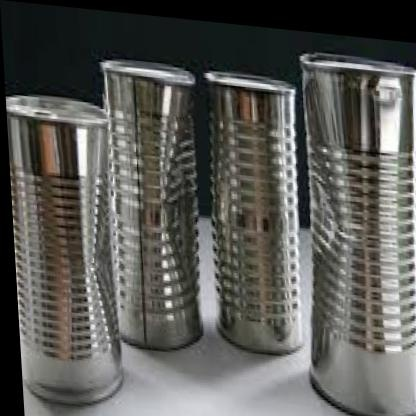trash: (300, 54, 415, 415), (6, 96, 122, 403), (101, 60, 201, 349), (205, 71, 300, 353)
